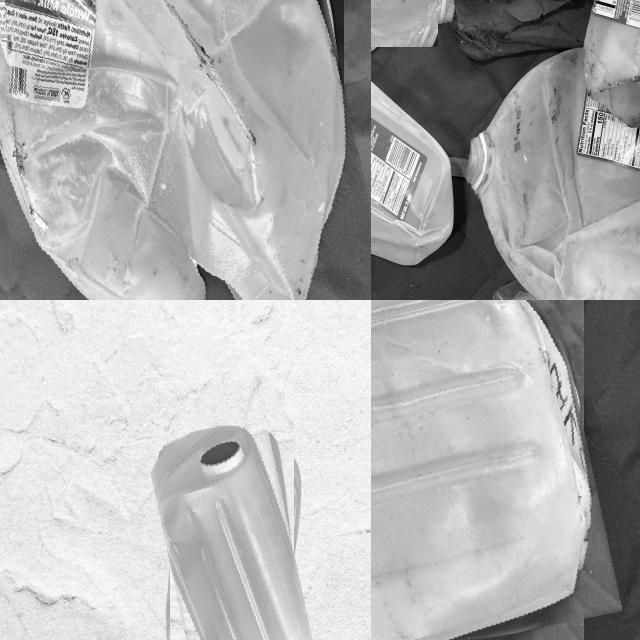milk-jug: (0, 0, 370, 300), (371, 300, 603, 640), (466, 47, 640, 300), (157, 421, 307, 640), (371, 68, 446, 262), (444, 0, 620, 48)
